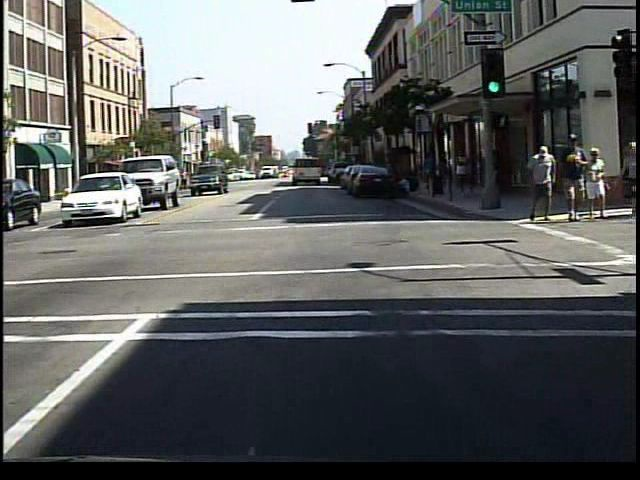person: (524, 143, 560, 230), (558, 130, 587, 226), (580, 145, 608, 229), (613, 139, 639, 220), (446, 146, 473, 200), (176, 168, 194, 197)
